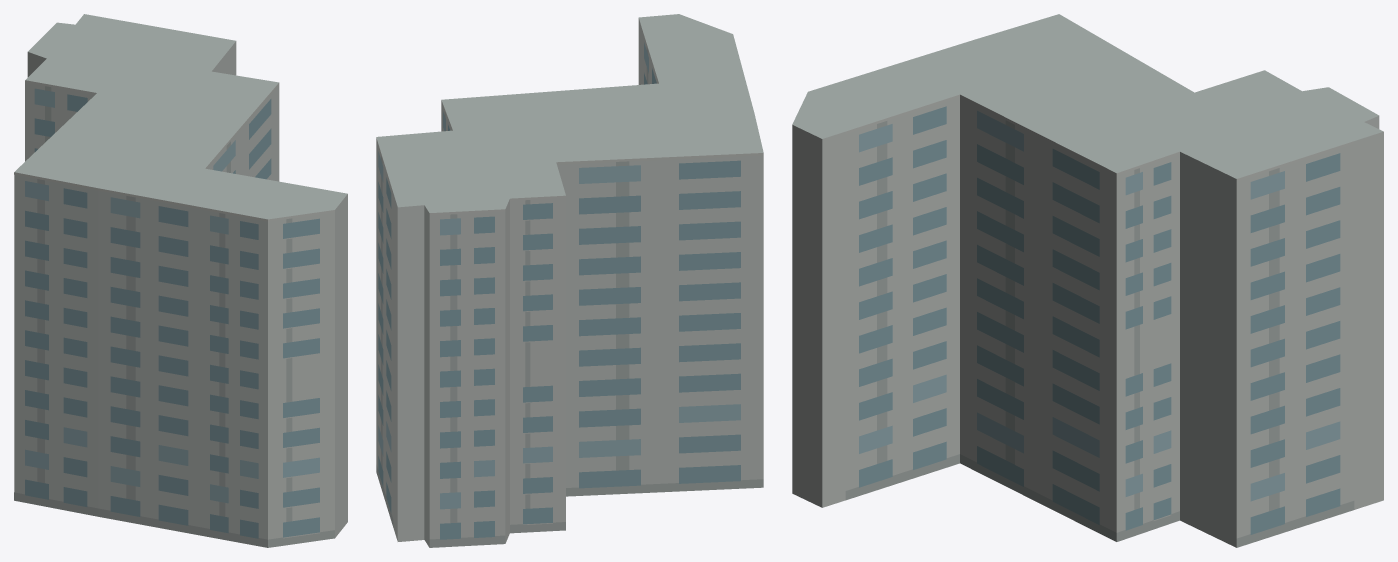
File: survey-upis-32900178.glb
3 renders of one model, left to right at view 1: azimuth 30°, elevation 25°; view 2: azimuth 150°, elevation 25°; view 3: azimuth 270°, elevation 25°, orthographic. The views are drawn at different scales.
Parts seen in each view (by area): view 1: survey-upis-32900178.tmp; view 2: survey-upis-32900178.tmp; view 3: survey-upis-32900178.tmp.
Boxes of the visible parts, x1,y1,x2,y2 form: survey-upis-32900178.tmp: (14,14,347,547); survey-upis-32900178.tmp: (376,14,763,547); survey-upis-32900178.tmp: (792,14,1383,547).
Bounding box in the file's own units: 32.2 × 33.55 × 48.77.
